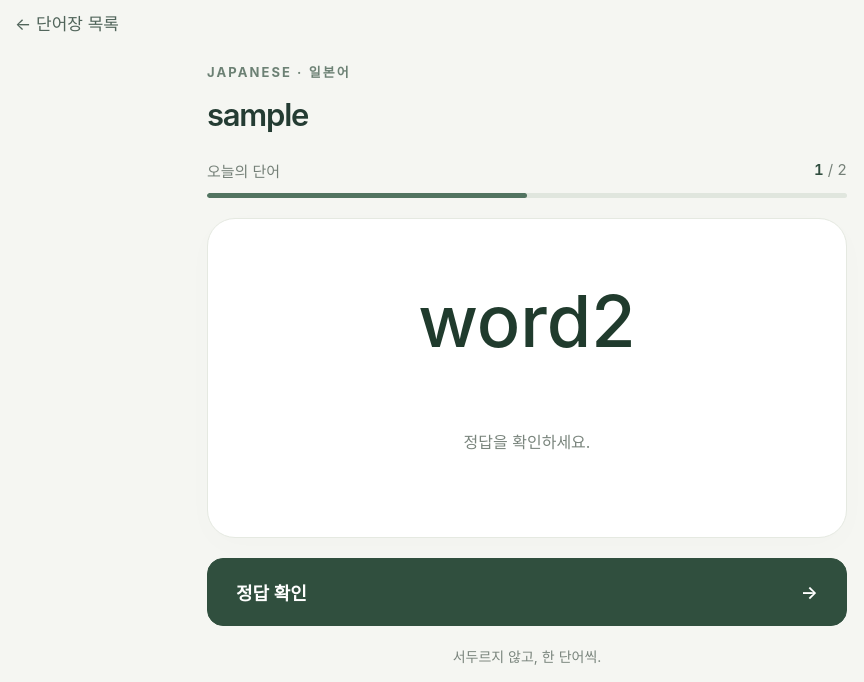
Test: japanese preserves reveal, advance, restart and back navigation
Later steps or results of the test are not shown.
Click the button "정답 확인 →" at (271, 594), box [207,558,847,626]
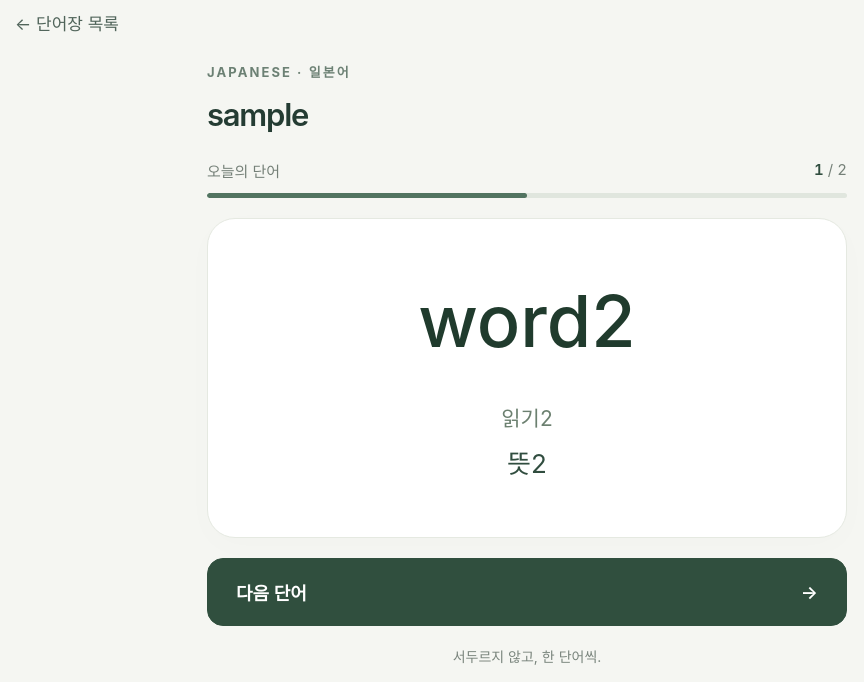
Expected: the text "뜻2" is shown, [507,448,547,479]
Expected: the text "읽기2" is shown, [501,406,553,430]
Click the button "다음 단어 →" at (271, 594), box [207,558,847,626]
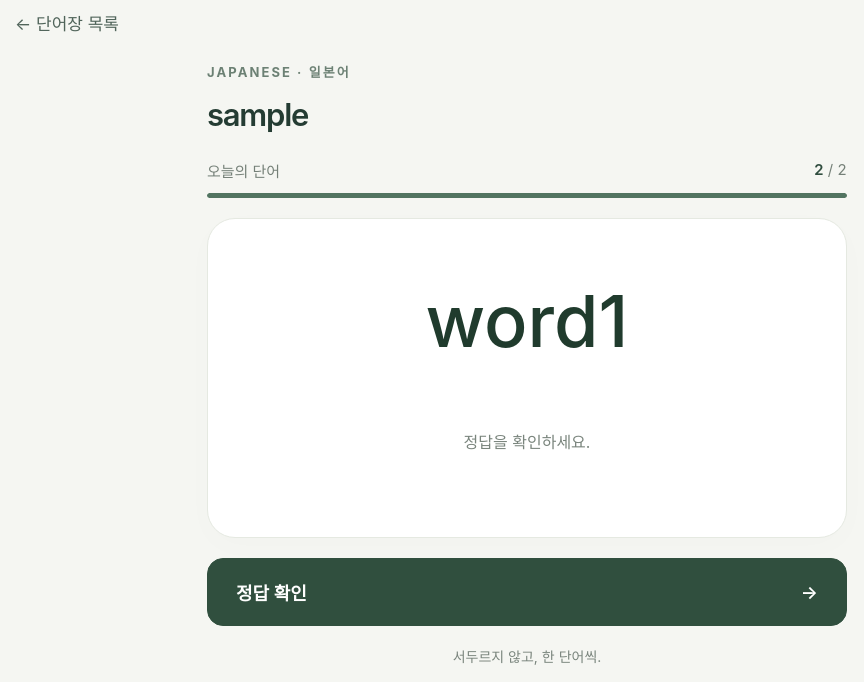
Expected: the text "뜻2" is gone
Click the button "정답 확인 →" at (271, 594), box [207,558,847,626]
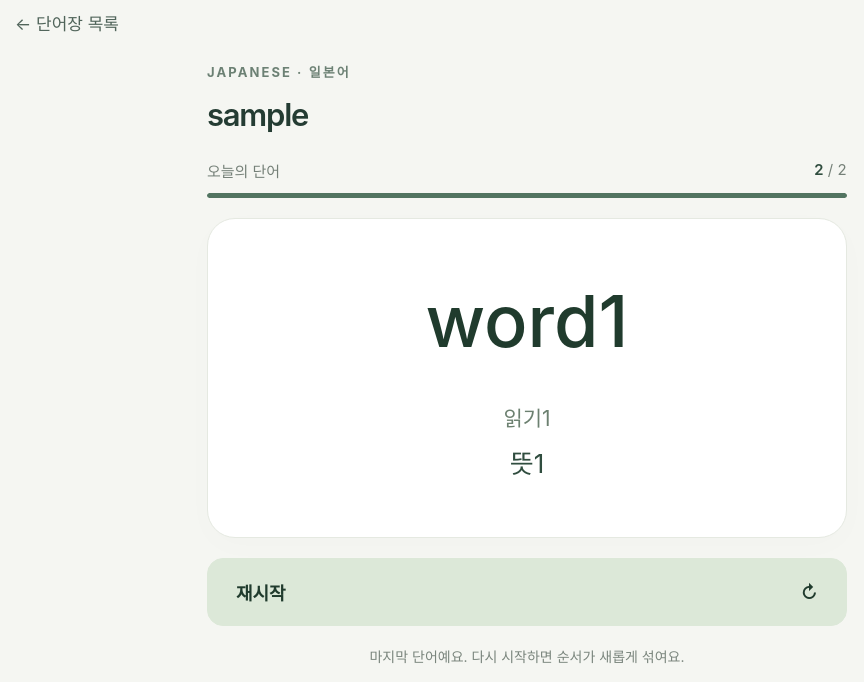
Expected: the button "재시작 ↻" has class "jq-action-restart"
Click the button "재시작 ↻" at (261, 594), box [207,558,847,626]
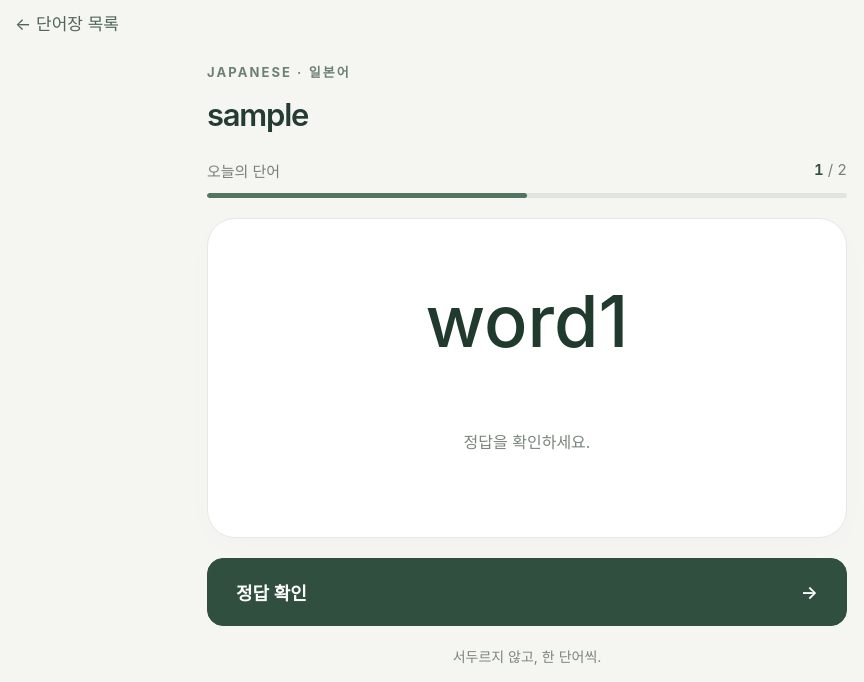
Expected: the text "뜻1" is gone
